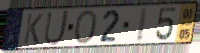2: (97, 8, 121, 44)
5: (155, 6, 178, 42)
I: (136, 7, 150, 43)
K: (22, 12, 45, 46)
O: (73, 8, 99, 45)
U: (42, 9, 71, 47)
